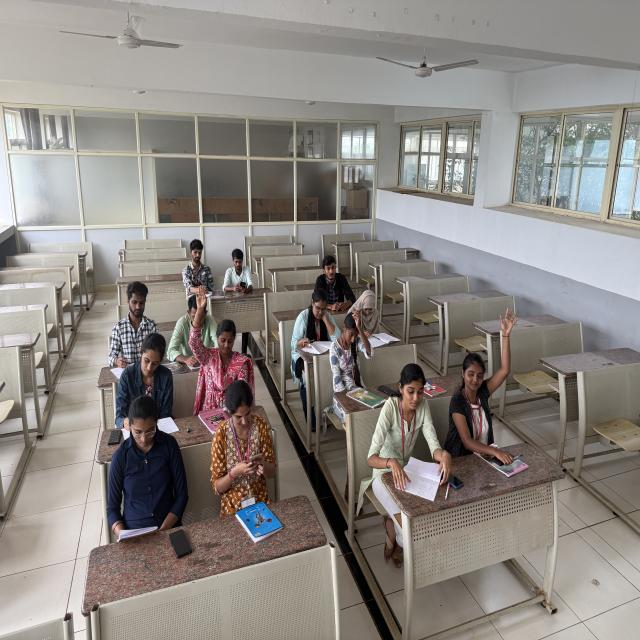Hand Rising: (452, 298, 520, 466), (185, 279, 257, 392)
Reading: (105, 392, 197, 550), (363, 360, 450, 512), (353, 288, 390, 346)
Using Phone: (208, 376, 280, 502), (220, 244, 258, 300)
Writing: (112, 325, 177, 440), (104, 280, 151, 388), (292, 287, 342, 362), (181, 234, 220, 301)
